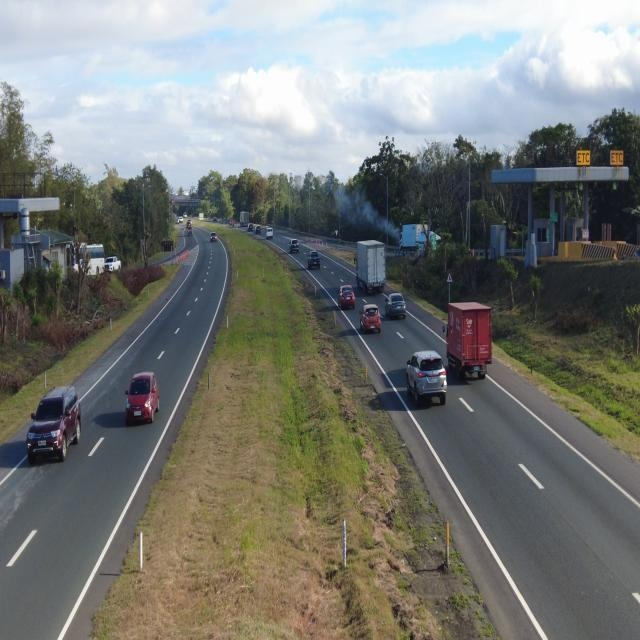Truck: (441, 297, 495, 383), (351, 233, 392, 299)
